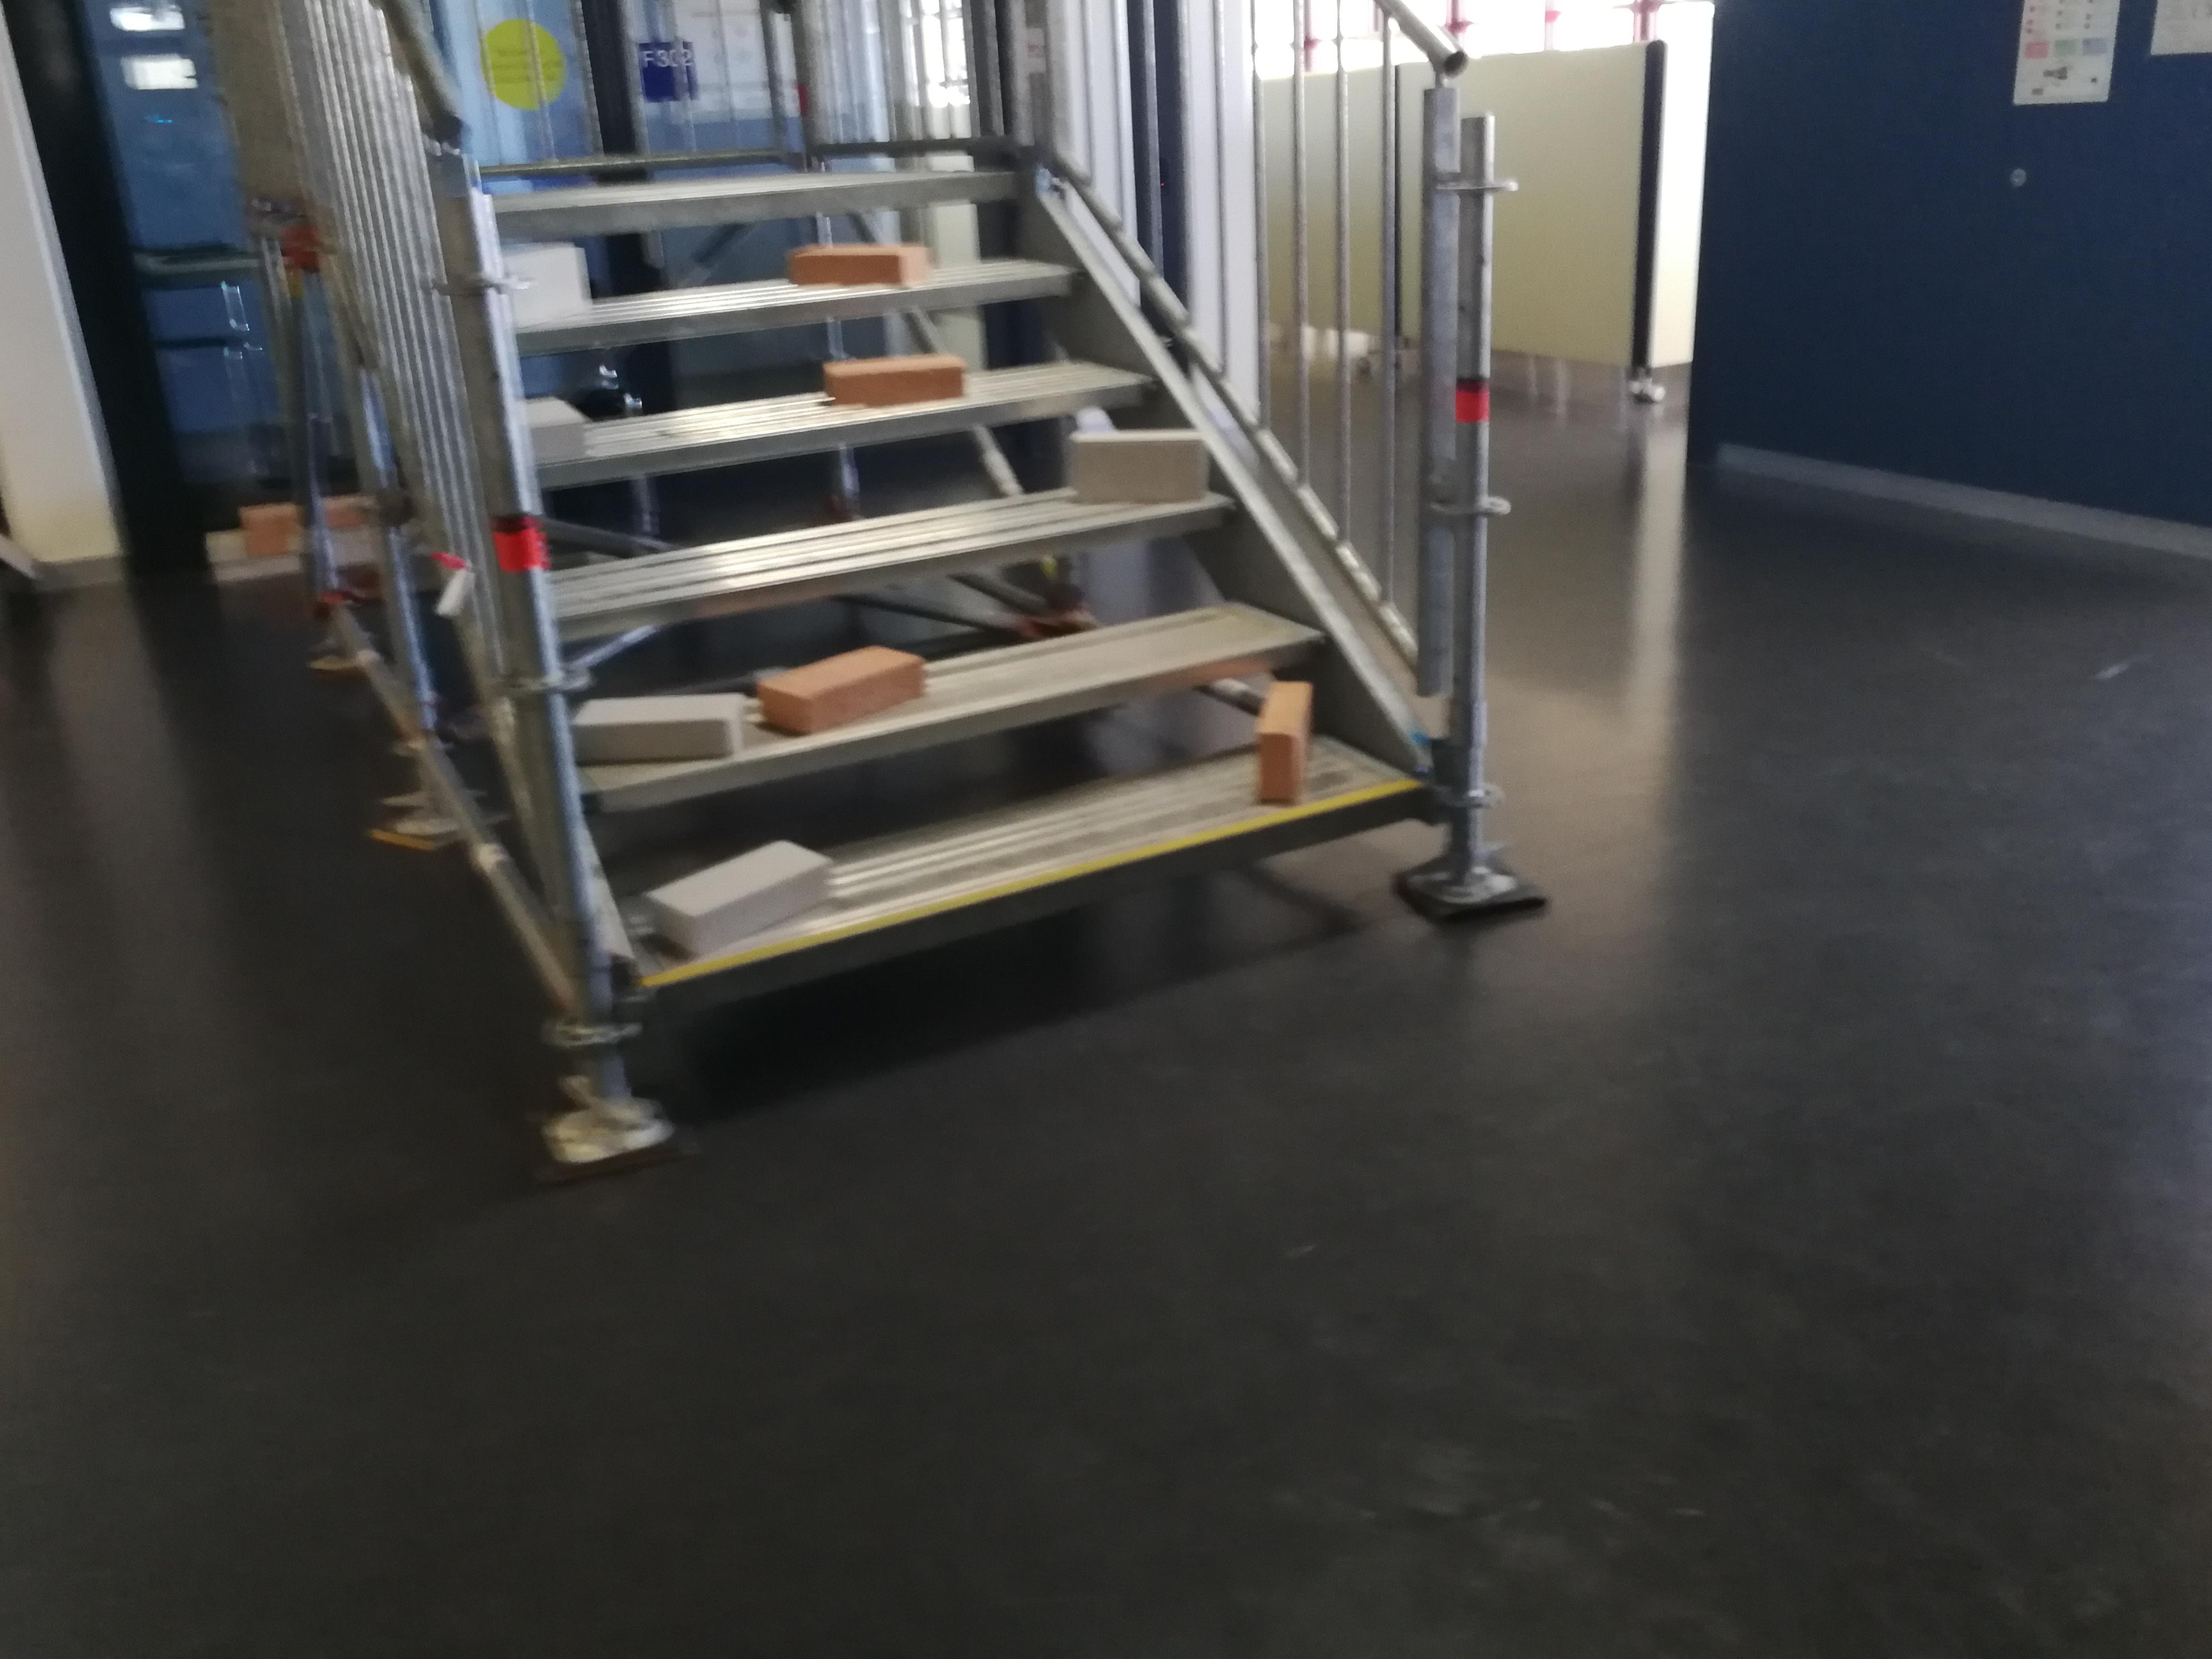brick: (641, 836, 827, 965), (761, 645, 921, 739), (578, 695, 740, 758), (1068, 432, 1204, 504), (1254, 680, 1312, 802), (826, 355, 961, 403), (502, 247, 580, 319), (792, 246, 927, 286), (519, 401, 587, 457)
edge: (648, 788, 1426, 1073), (587, 606, 1317, 849), (552, 479, 1233, 671), (543, 366, 1148, 540), (521, 258, 1075, 399), (491, 153, 1015, 258)
stairs: (505, 0, 1554, 1182)
steps: (458, 136, 1444, 1091)
